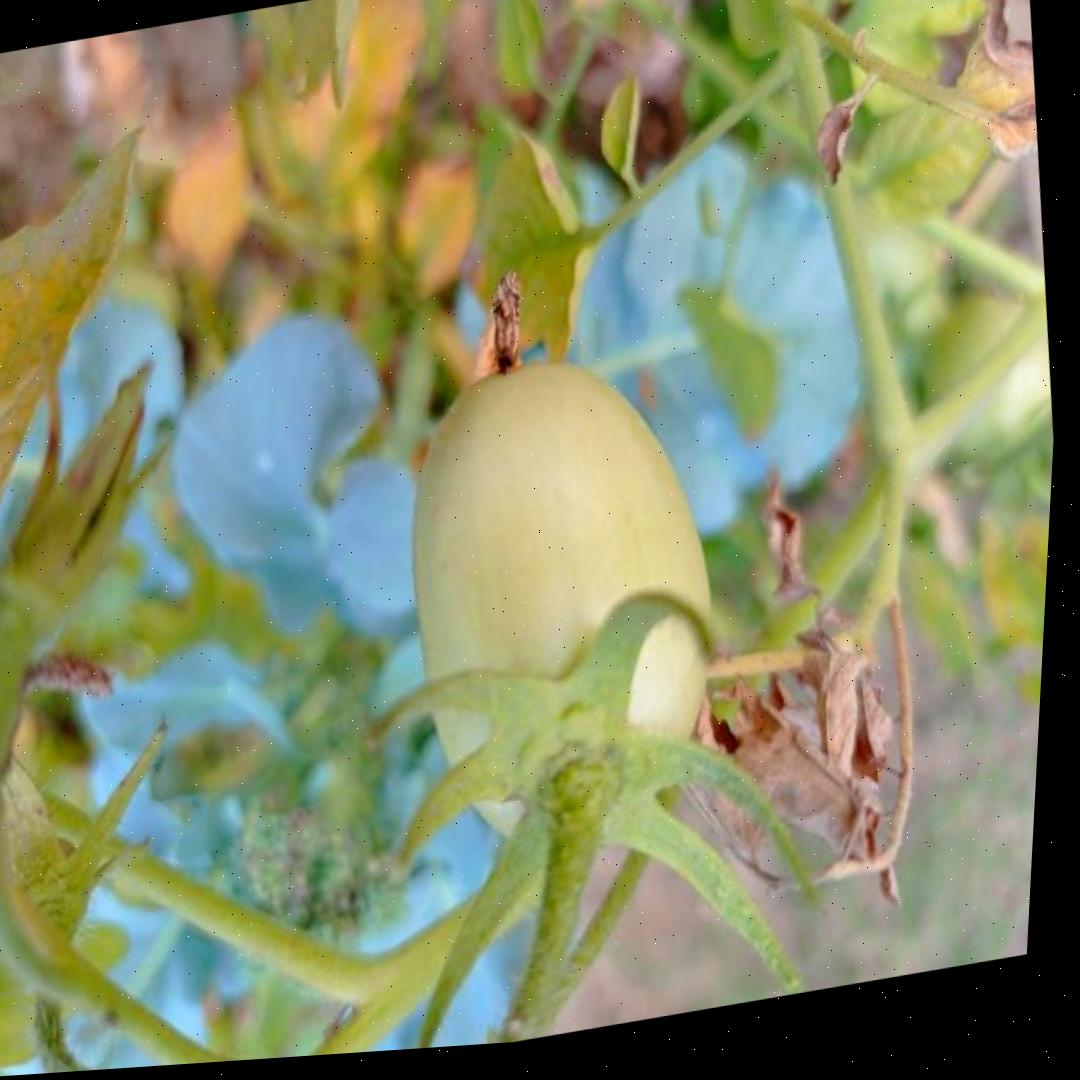mentah: (374, 326, 754, 881)
